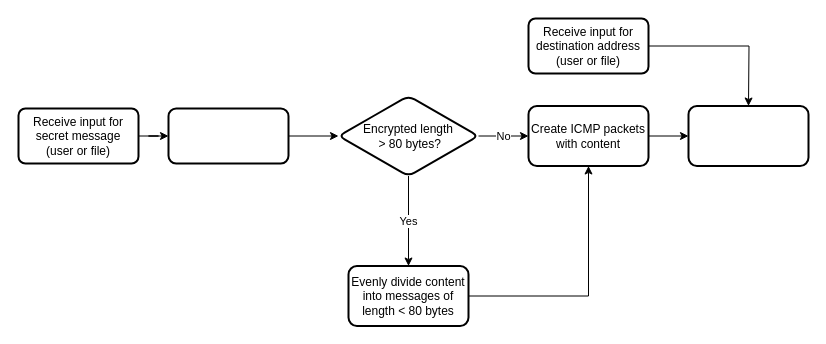
Image size: 826x344. Some labels were removed from this diagram. The shapes that lost their labels are listed below. From the top down, each one's centre as x and y in pixels, then its label:
At point 228,135: "Symmetrically encrypt message".
At point 748,135: "Send packets to appropriate destination server".
